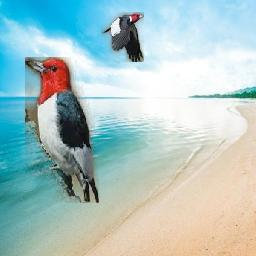Woodpecker: (25, 57, 99, 203), (102, 12, 145, 62)
